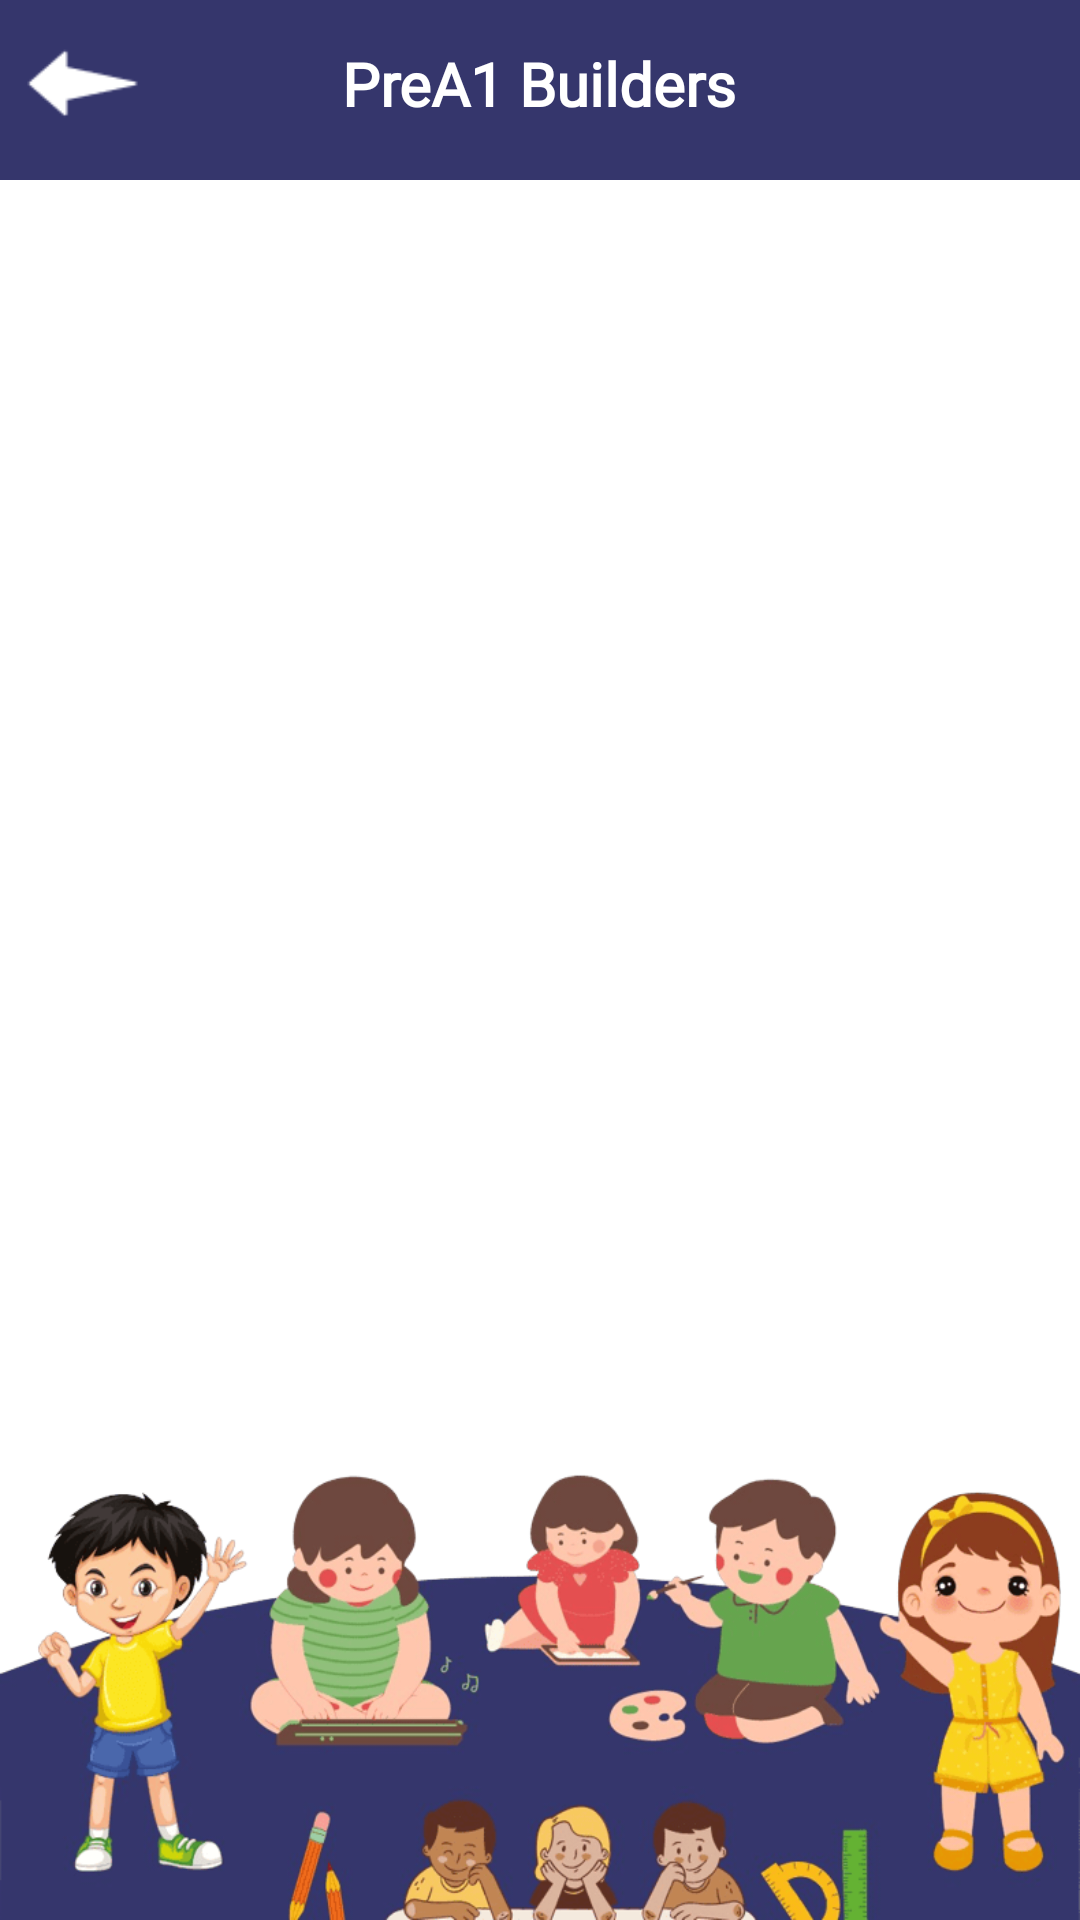

Point at icon controls on the screen. Image size 1080×1920, points as (x,y).
left back: (83,83)
